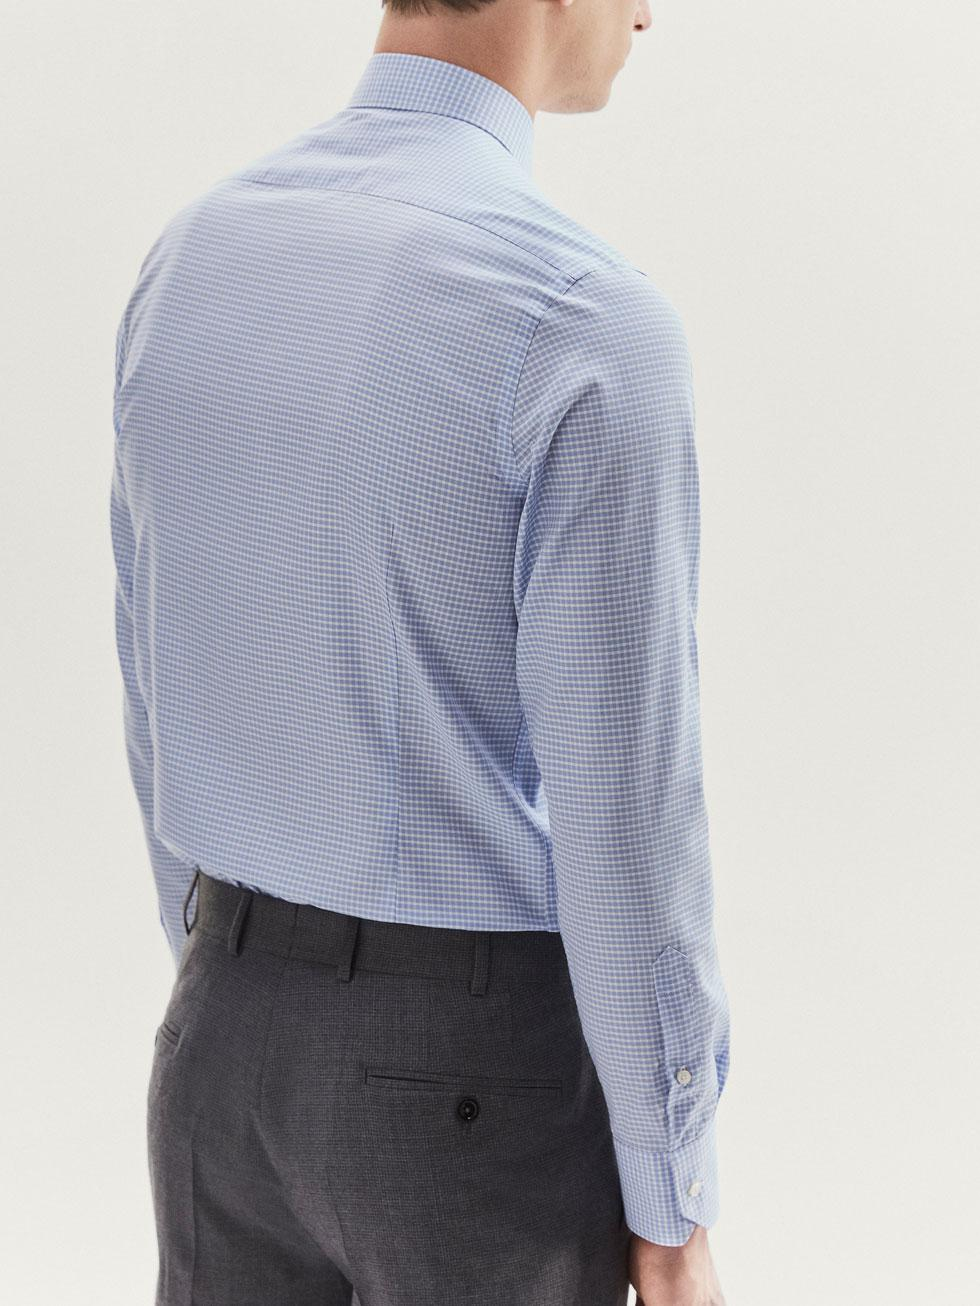teeshirt: (85, 45, 763, 1261)
